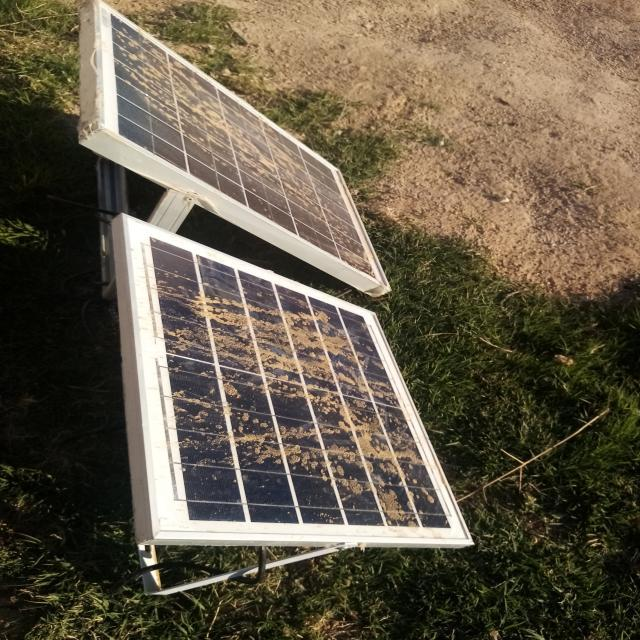faulty: (123, 215, 471, 543), (95, 0, 387, 289)
